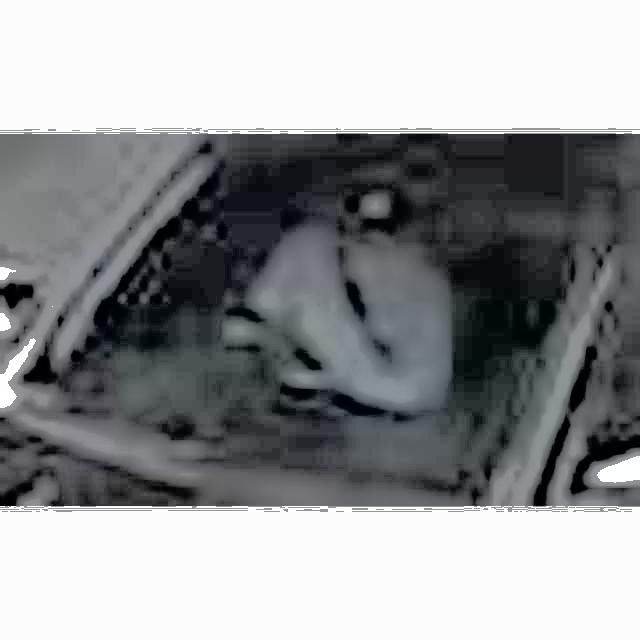pakai: (246, 169, 457, 450)
